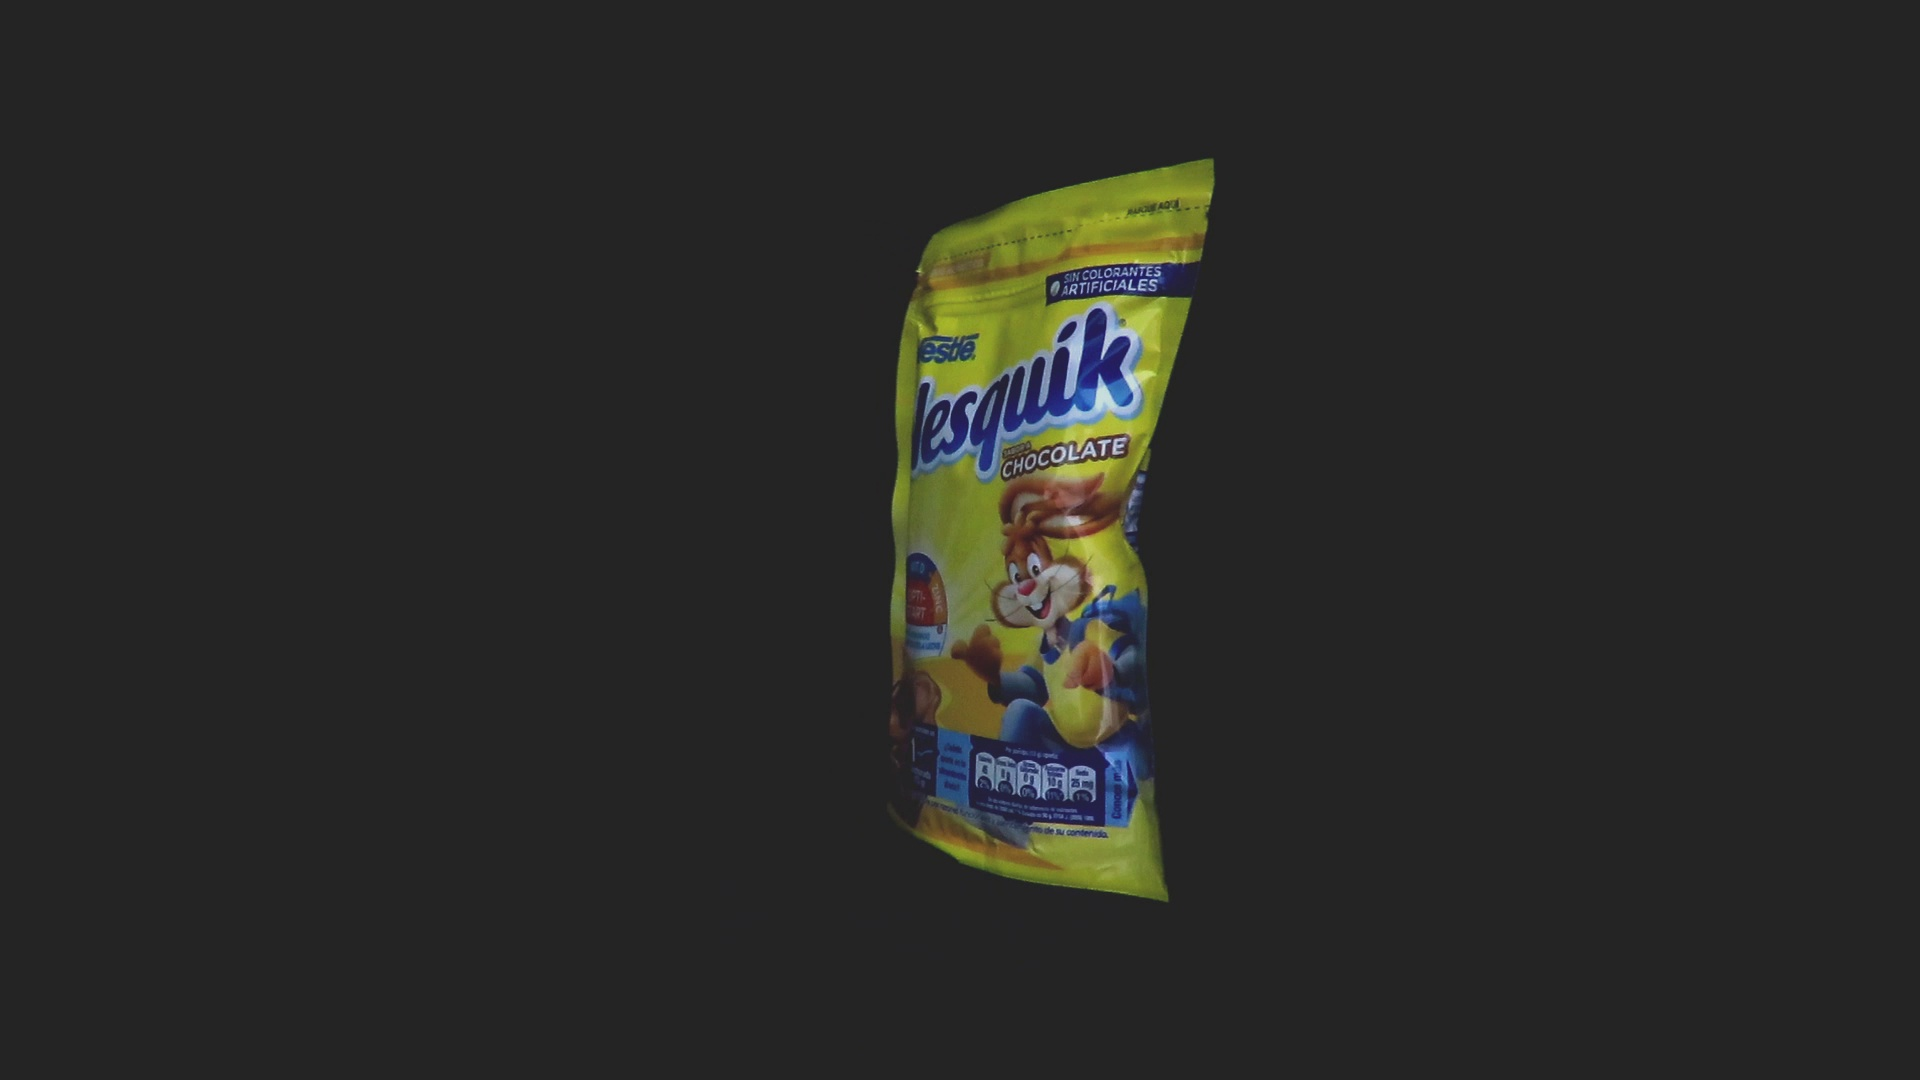COL0170303DYP20000: (885, 153, 1221, 909)
